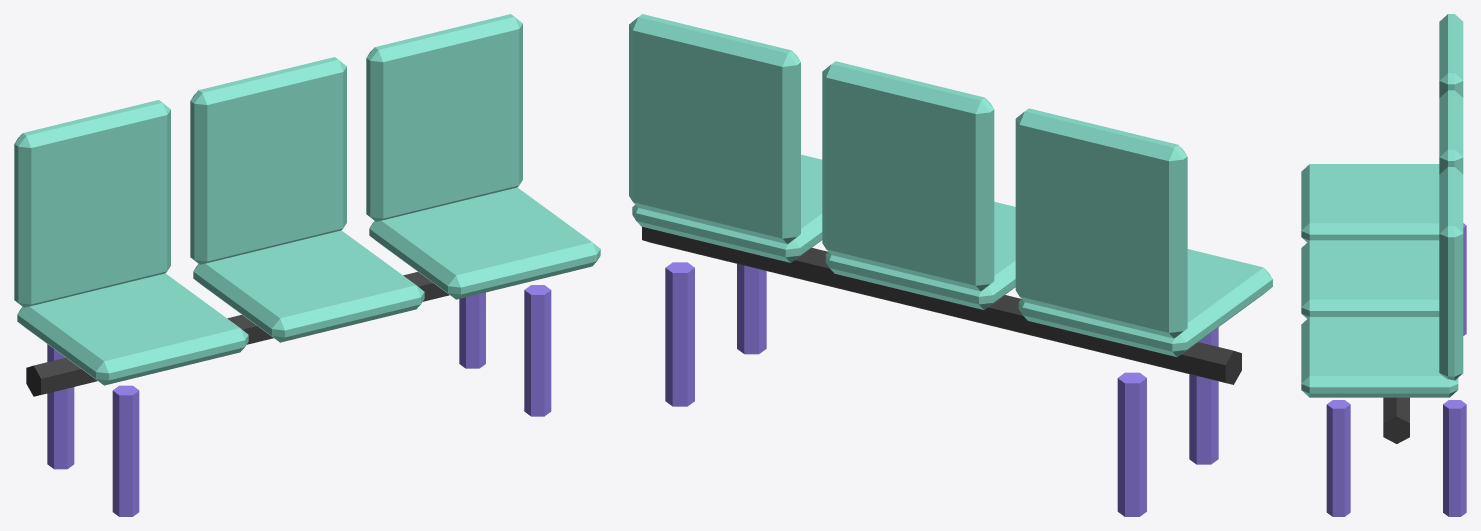
The picture shows the model from 3 angles, left to right: view 1: azimuth 30°, elevation 25°; view 2: azimuth 150°, elevation 25°; view 3: azimuth 270°, elevation 25°; orthographic projection. The views are drawn at different scales.
Parts seen in each view (by area): view 1: Back.002, Back, Back.001, Seat.002, Seat, Seat.001, Leg, Leg.002, Cross beam, Leg.001, Leg.003; view 2: Back.001, Back, Back.002, Cross beam, Seat, Seat.001, Seat.002, Leg.003, Leg.001, Leg, Leg.002; view 3: Seat.002, Seat.001, Seat, Back.002, Leg.002, Leg.003, Back.001, Back, Cross beam, Leg.001.
Boxes of the visible parts, x1,y1,x2,y2 form: Back.002: [366, 14, 522, 221]; Back: [14, 100, 170, 307]; Back.001: [190, 57, 346, 264]; Seat.002: [369, 187, 600, 299]; Seat: [17, 273, 248, 385]; Seat.001: [193, 230, 424, 342]; Leg: [112, 385, 139, 516]; Leg.002: [524, 285, 551, 416]; Cross beam: [26, 272, 449, 396]; Leg.001: [47, 344, 74, 469]; Leg.003: [459, 292, 485, 368]; Back.001: [822, 61, 994, 291]; Back: [1015, 108, 1187, 338]; Back.002: [629, 14, 800, 244]; Cross beam: [642, 226, 1241, 384]; Seat: [1018, 249, 1272, 357]; Seat.001: [825, 202, 1015, 309]; Seat.002: [632, 154, 822, 262]; Leg.003: [665, 262, 694, 406]; Leg.001: [1117, 372, 1146, 516]; Leg: [1189, 327, 1218, 464]; Leg.002: [737, 264, 766, 354]; Seat.002: [1301, 317, 1458, 397]; Seat.001: [1301, 240, 1439, 318]; Seat: [1301, 164, 1439, 242]; Back.002: [1439, 167, 1463, 380]; Leg.002: [1326, 400, 1350, 516]; Leg.003: [1443, 400, 1466, 516]; Back.001: [1439, 90, 1463, 174]; Back: [1439, 14, 1463, 97]; Cross beam: [1383, 397, 1409, 443]; Leg.001: [1463, 223, 1466, 335].
Size of the model in its own units: 1.6 by 0.98 by 0.485.
1 material, 1 textured.
